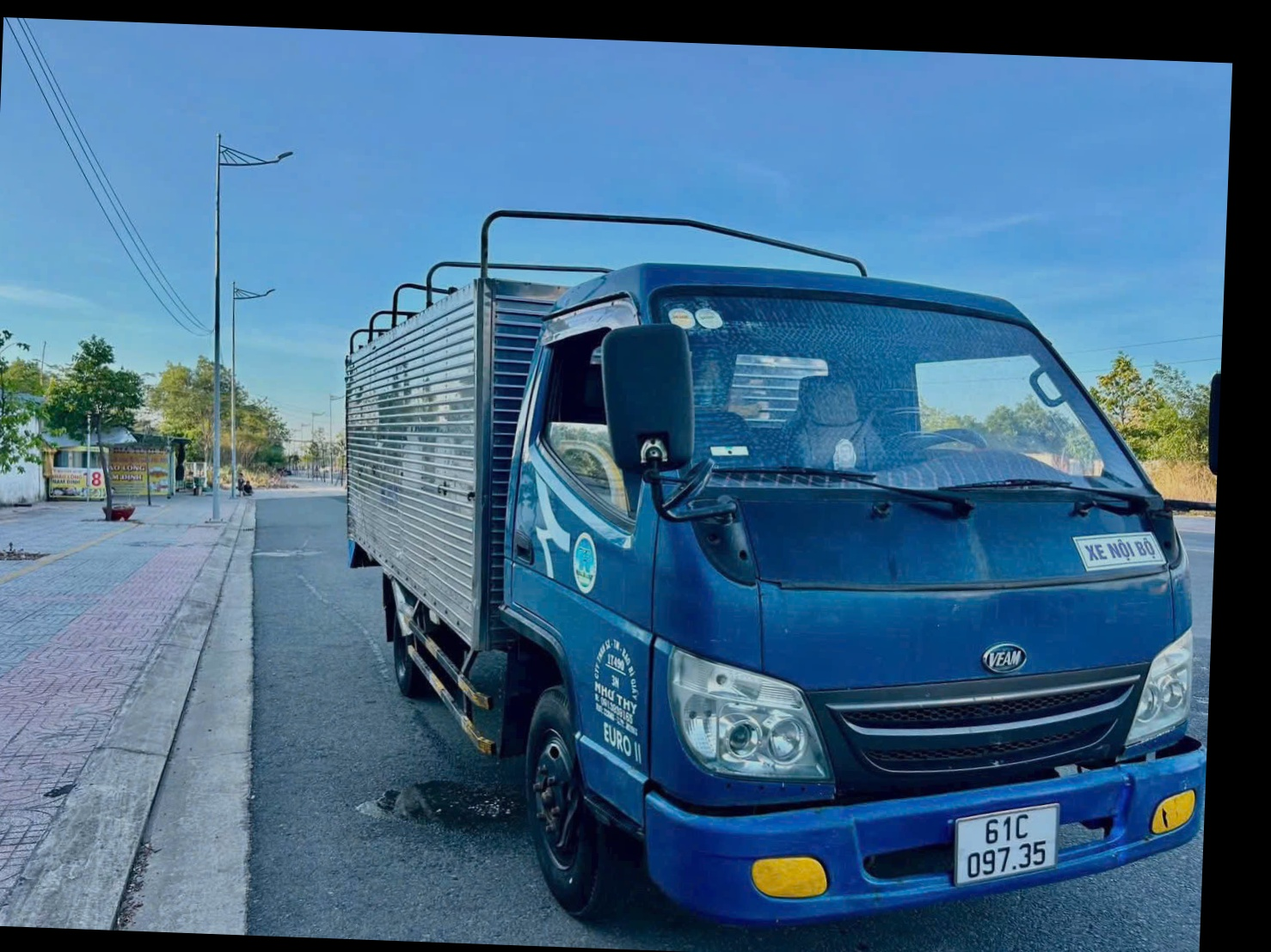Bien-so: (1030, 759, 1150, 871)
